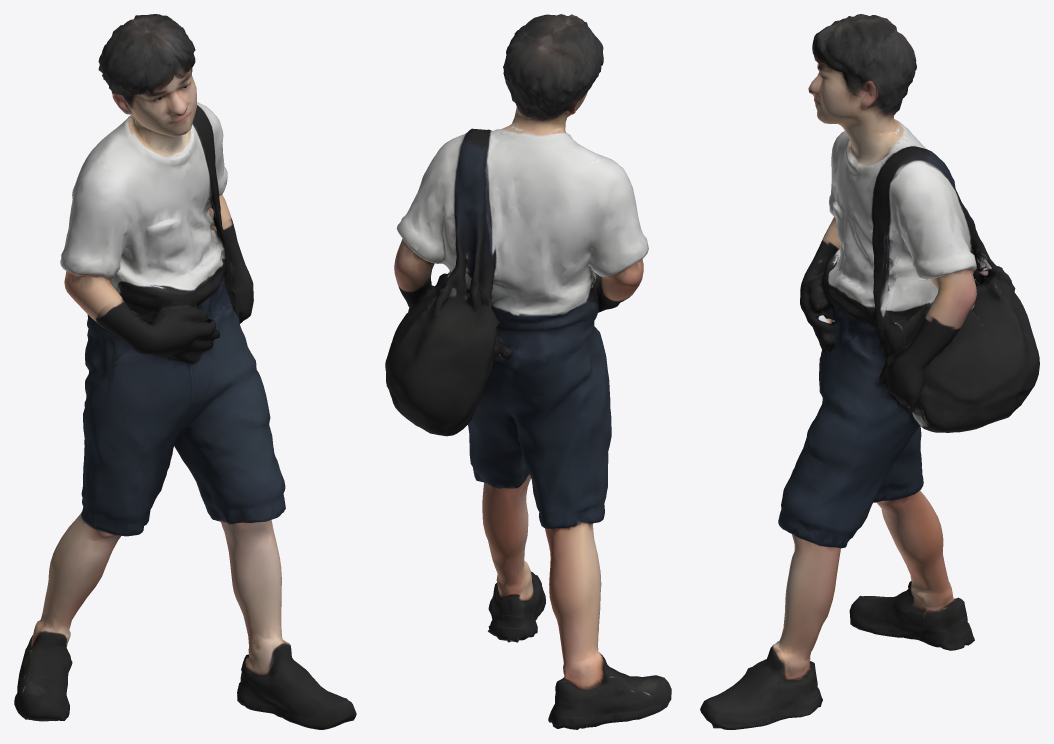
The picture shows the model from 3 angles, left to right: view 1: azimuth 30°, elevation 25°; view 2: azimuth 150°, elevation 25°; view 3: azimuth 270°, elevation 25°; orthographic projection. The views are drawn at different scales.
Size of the model in its own units: 0.7422 by 1.91 by 0.9045.
1 material, 1 textured.
